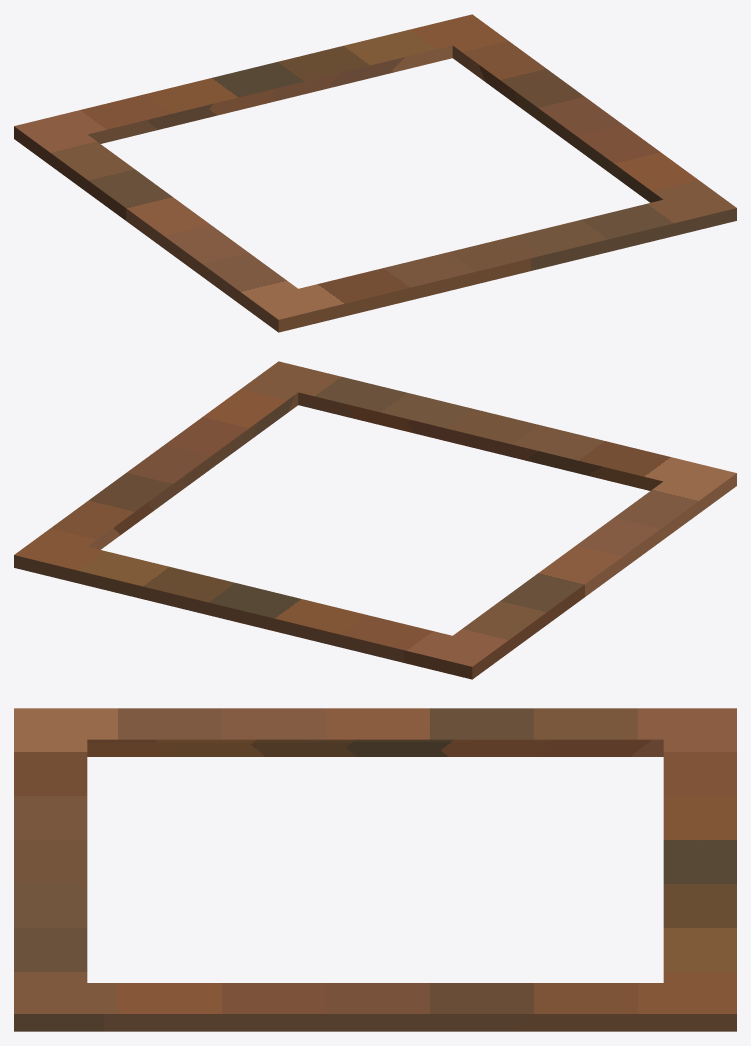
Rendered from floor_003.fbx.
The picture shows the model from 3 angles, top to bottom: view 1: azimuth 30°, elevation 25°; view 2: azimuth 150°, elevation 25°; view 3: azimuth 270°, elevation 25°; orthographic projection. The views are drawn at different scales.
Parts seen in each view (by area): view 1: floor.003; view 2: floor.003; view 3: floor.003.
Boxes of the visible parts, x1,y1,x2,y2 form: floor.003: (14,14,736,332); floor.003: (14,361,736,679); floor.003: (14,708,736,1031).
Size of the model in its own units: 2851 by 75.98 by 2851.
Materials: 1 (1 with a texture image).
